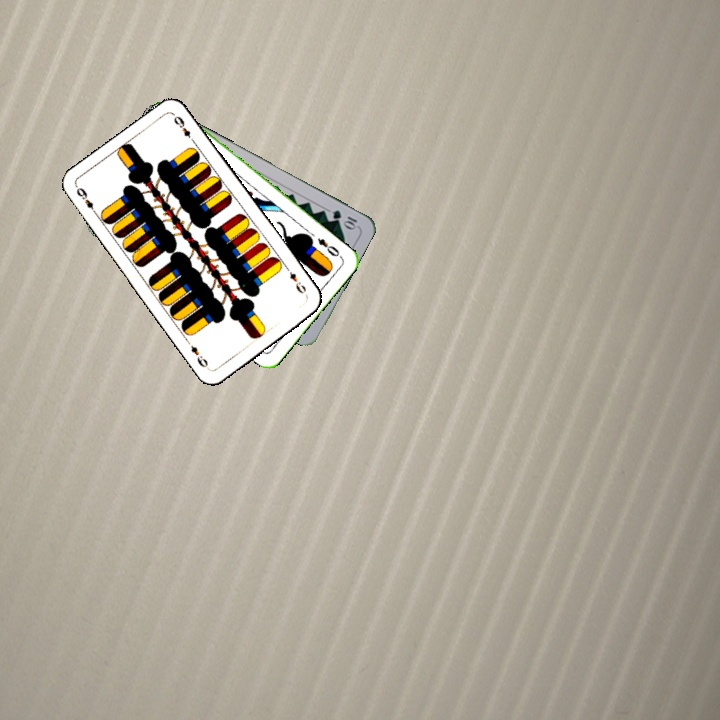E9: (72, 183, 100, 218), (282, 263, 309, 296)
EO: (313, 234, 345, 260)
G10: (328, 206, 360, 232)
